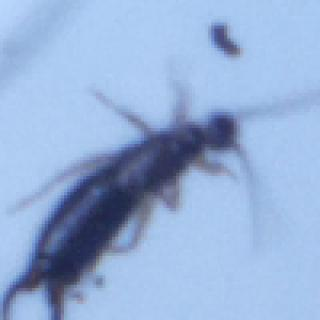earwig: (1, 63, 320, 320)
